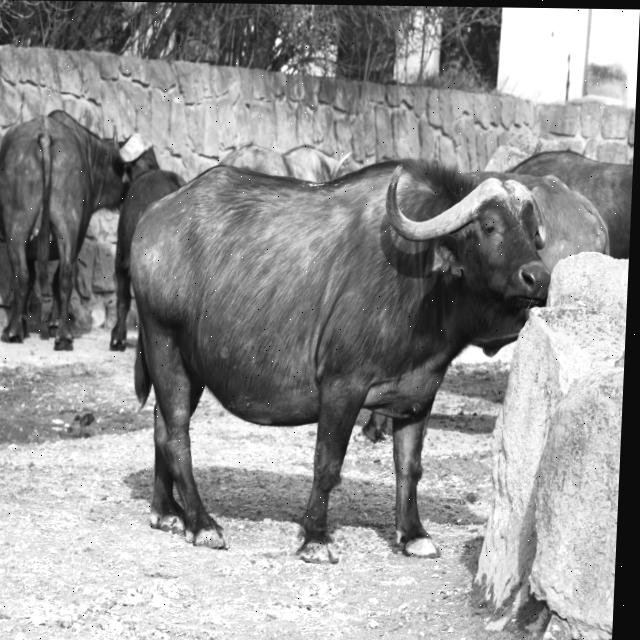Buffalo: (114, 154, 562, 562), (0, 110, 133, 346)
